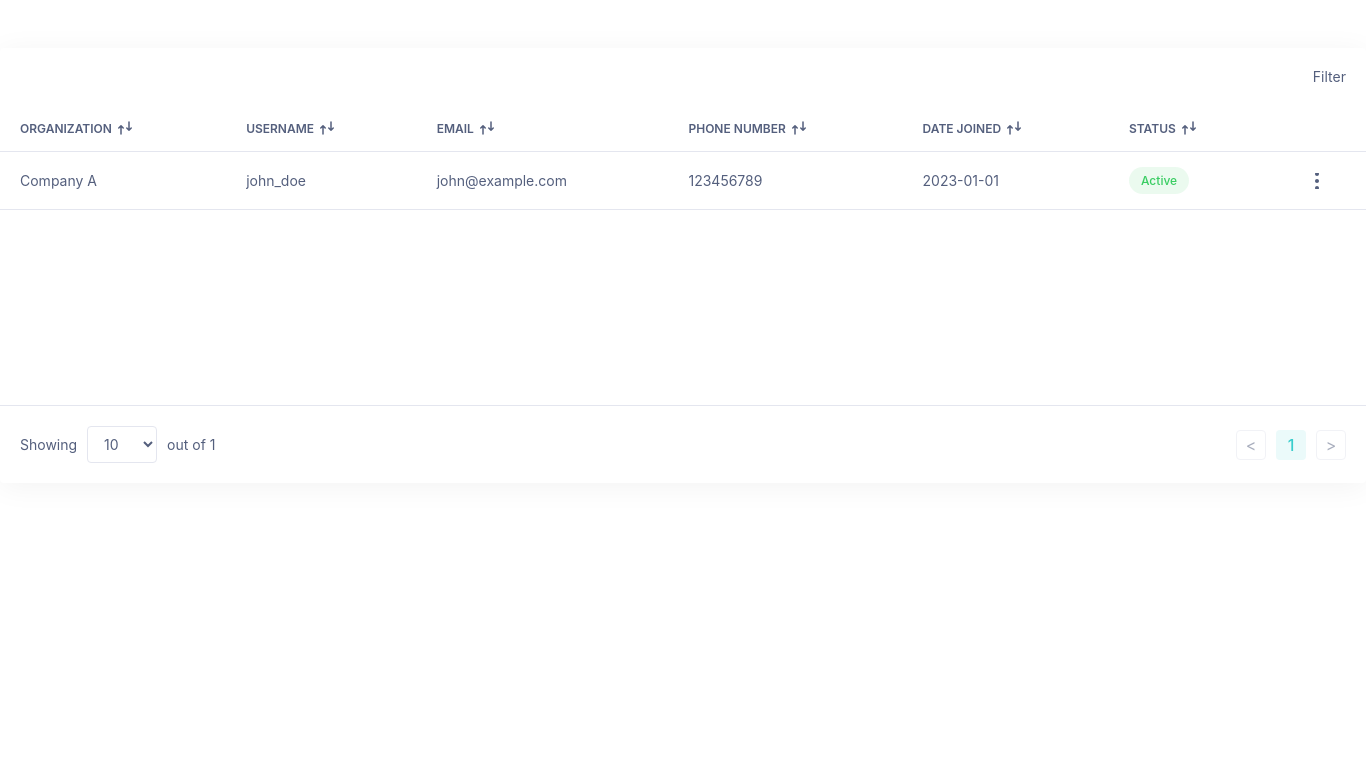
Scenario: DataTable › shows error message for invalid email
The width and height of the screenshot is (1366, 768).
Click the button "Filter".
click(1329, 76)  # box x1=1313 y1=68 x2=1346 y2=85
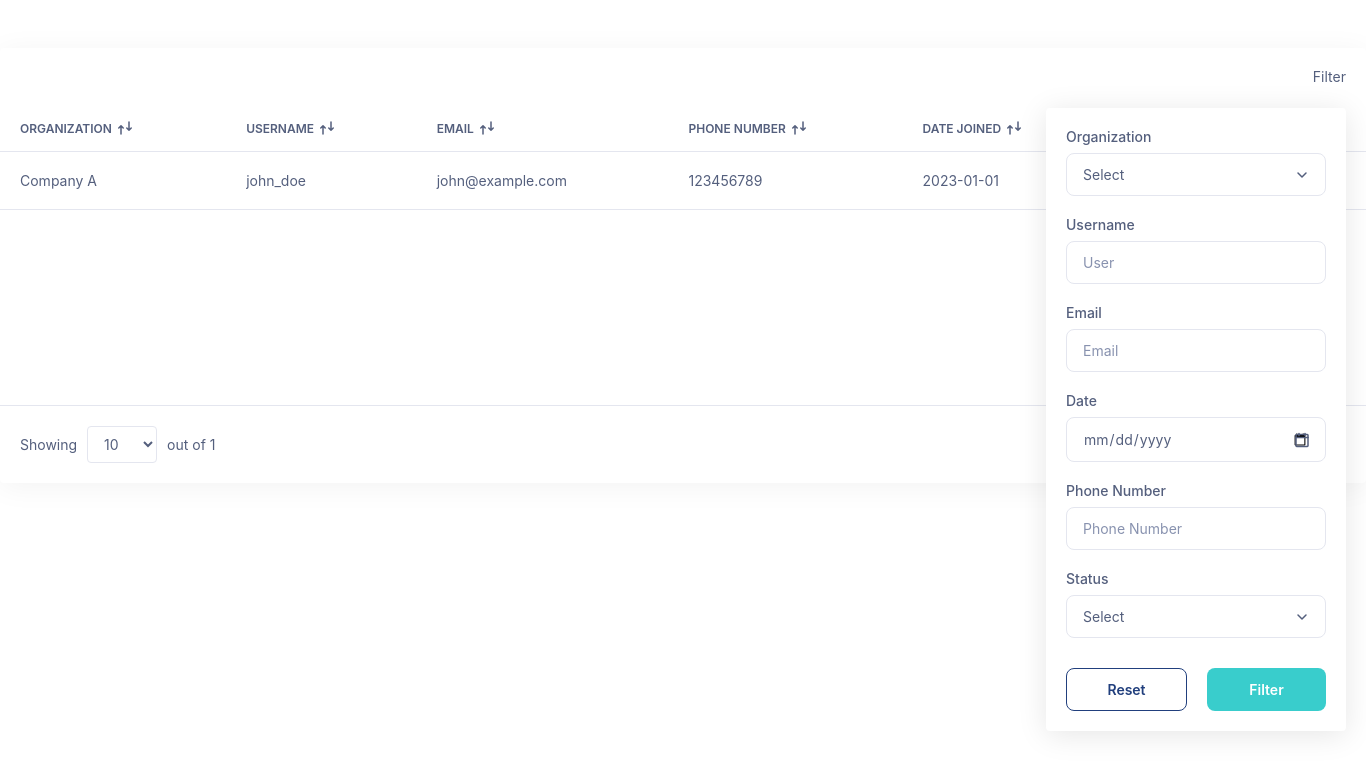
Type "bademail" into the field labelled "Email".
click(1196, 350); type("bademail")  # box x1=1066 y1=329 x2=1326 y2=372
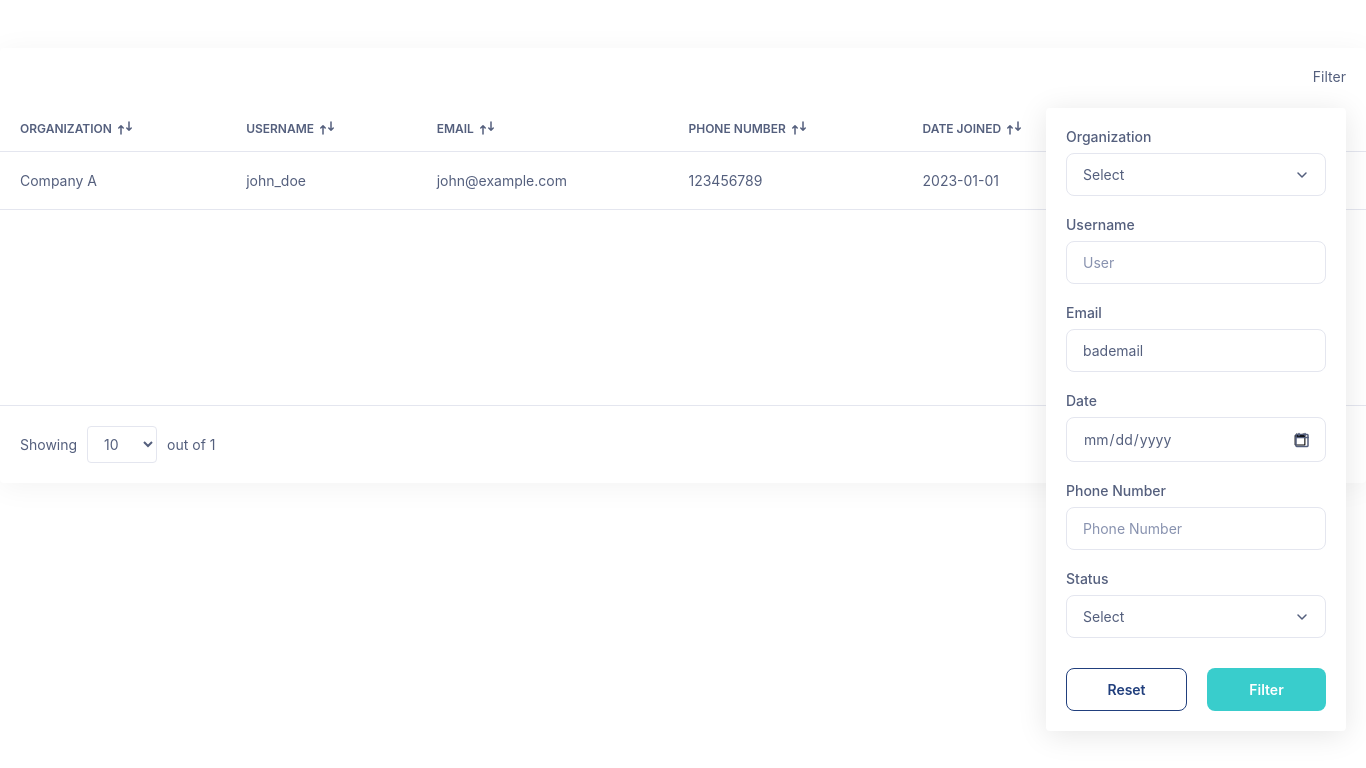
Click the button with test id "submit".
click(1266, 690)  # box x1=1207 y1=668 x2=1326 y2=711
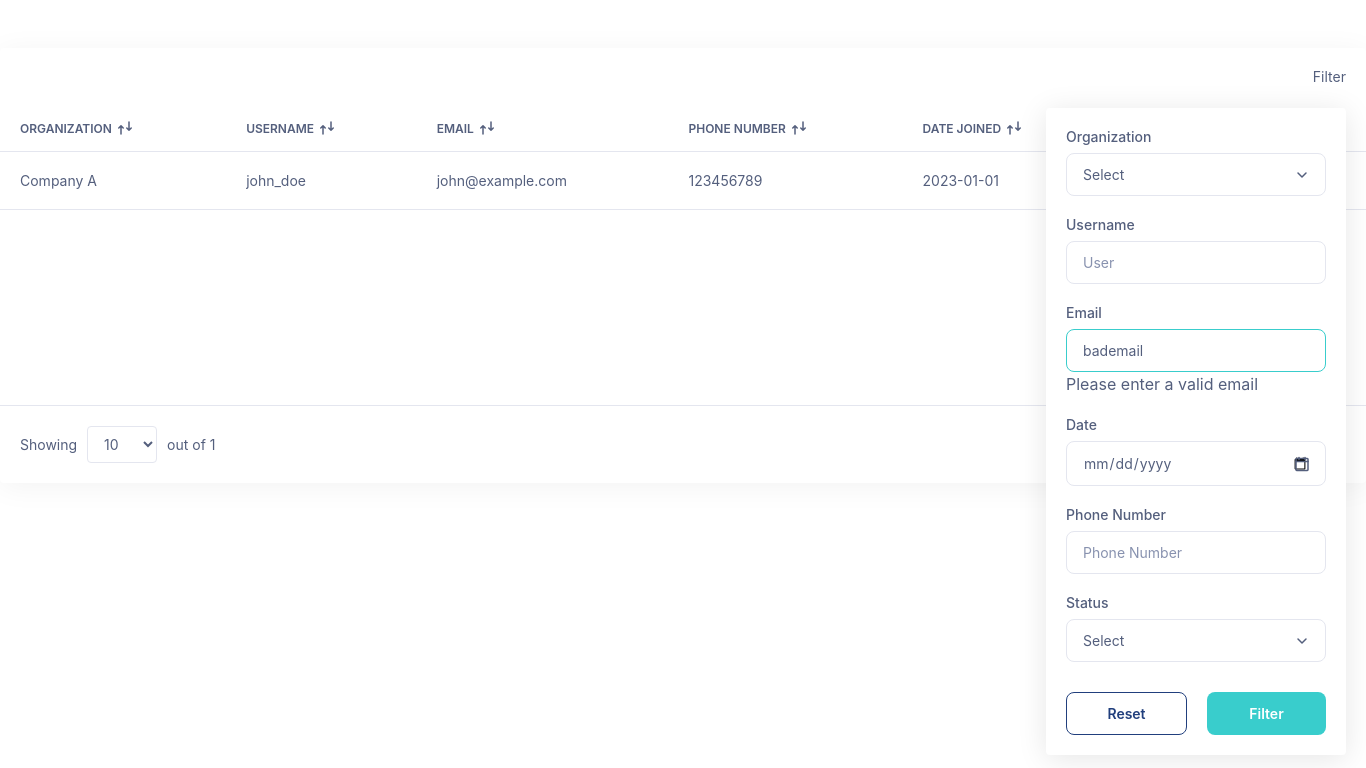
Check: the text "Please enter a valid email" is shown, box x1=1066 y1=374 x2=1258 y2=394
